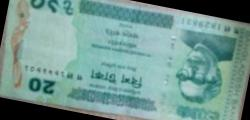20 taka: (11, 2, 235, 116)
